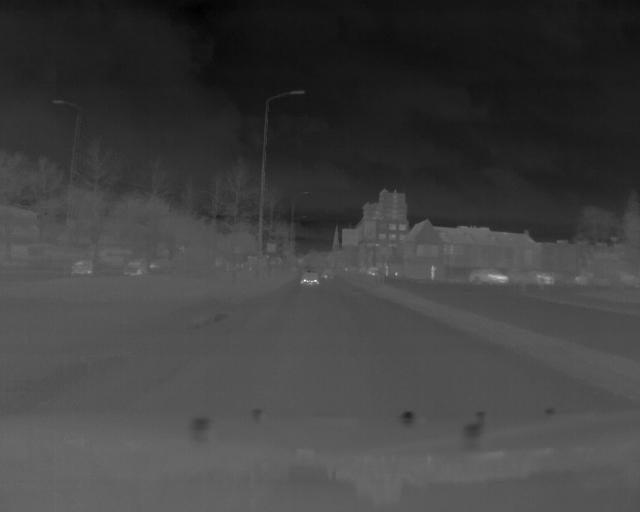car: (463, 266, 512, 285), (116, 257, 152, 277), (518, 269, 555, 287), (296, 266, 323, 288), (72, 258, 93, 275)
person: (427, 263, 438, 282)
